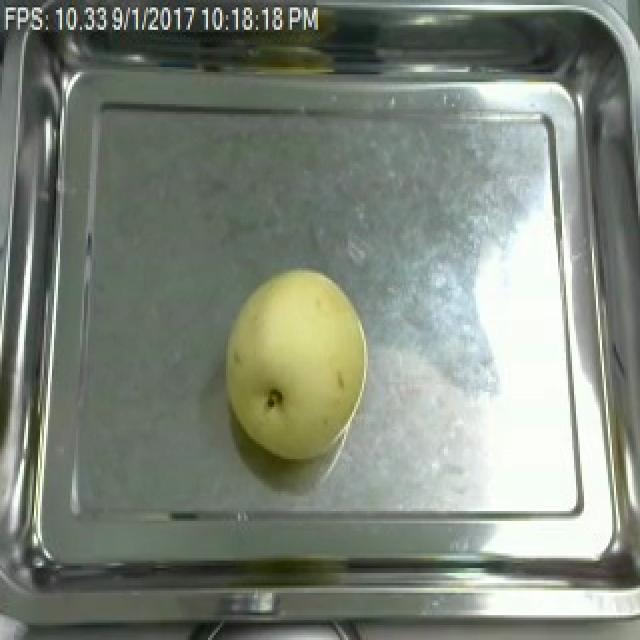Fruit: (216, 260, 378, 467)
